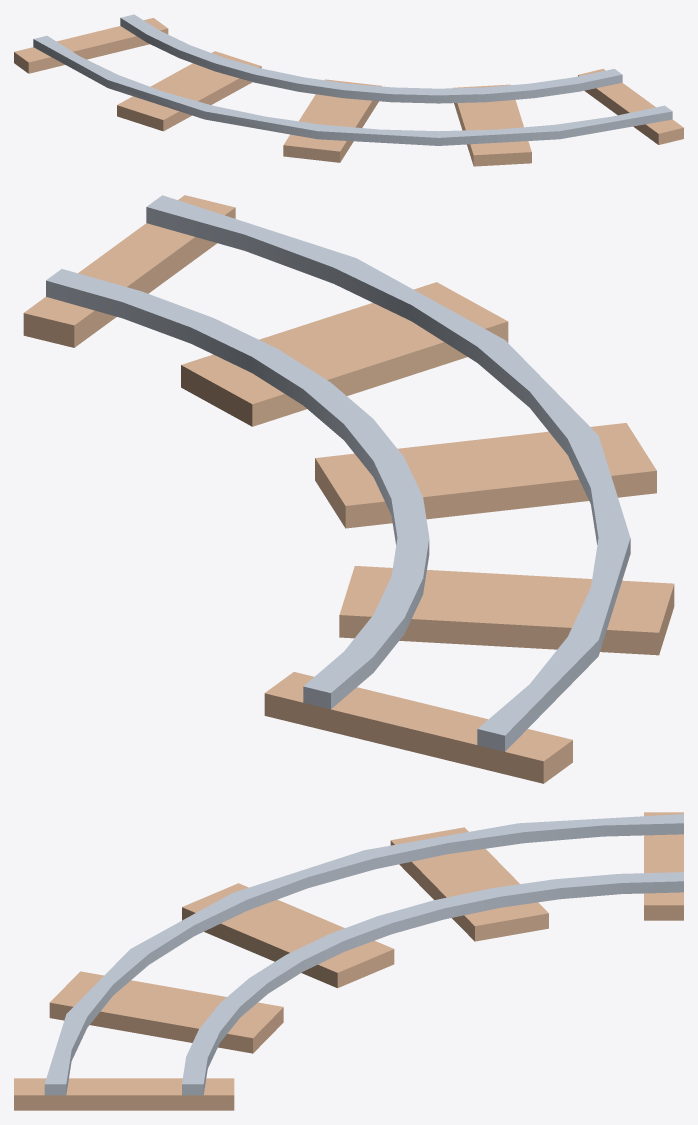
File: trackCornerLarge.glb
3 views of the same model, one above another, from view 1: azimuth 30°, elevation 25°; view 2: azimuth 150°, elevation 25°; view 3: azimuth 270°, elevation 25° (orthographic). The views are drawn at different scales.
Parts seen in each view (by area): view 1: trackCornerLarge(Clone); view 2: trackCornerLarge(Clone); view 3: trackCornerLarge(Clone).
Boxes of the visible parts, <box> form: trackCornerLarge(Clone): <box>14,14,683,166</box>; trackCornerLarge(Clone): <box>23,195,674,783</box>; trackCornerLarge(Clone): <box>14,812,683,1110</box>.
Bounding box in the file's own units: 0.5529 × 0.0241 × 0.5529.
